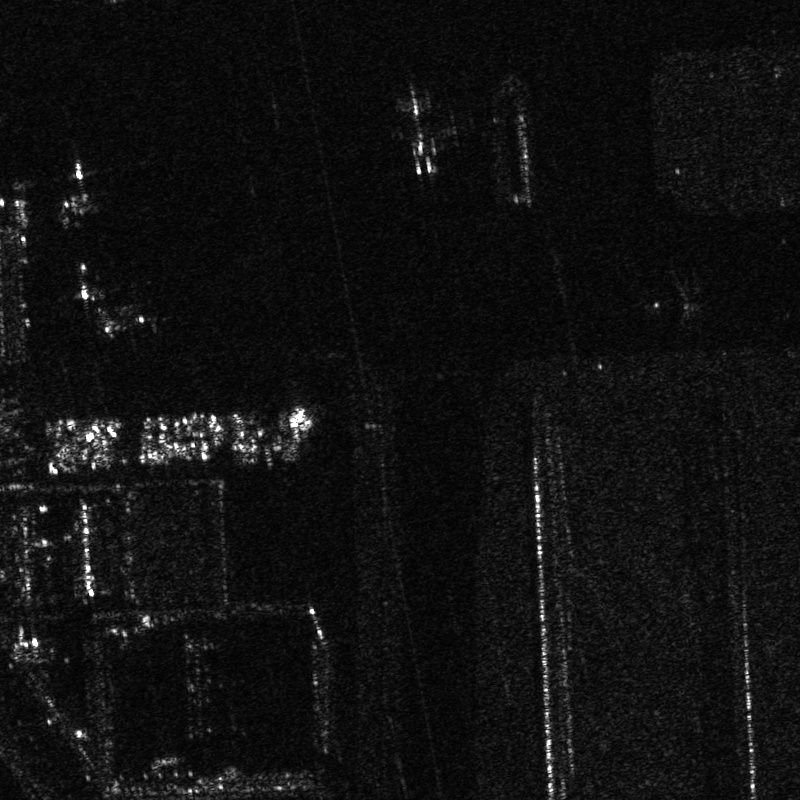A220: (84, 282, 178, 346)
other: (390, 72, 457, 182)
